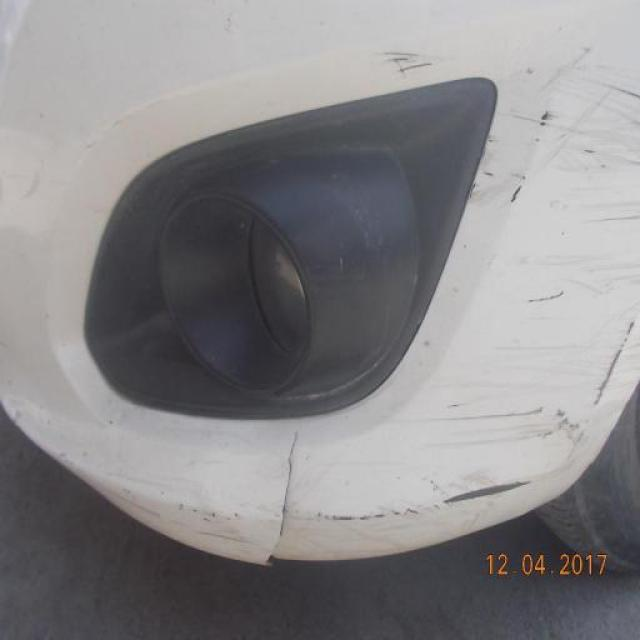scratch: (313, 41, 640, 535), (107, 479, 253, 527), (259, 430, 304, 577), (122, 500, 256, 548), (377, 47, 449, 86)
